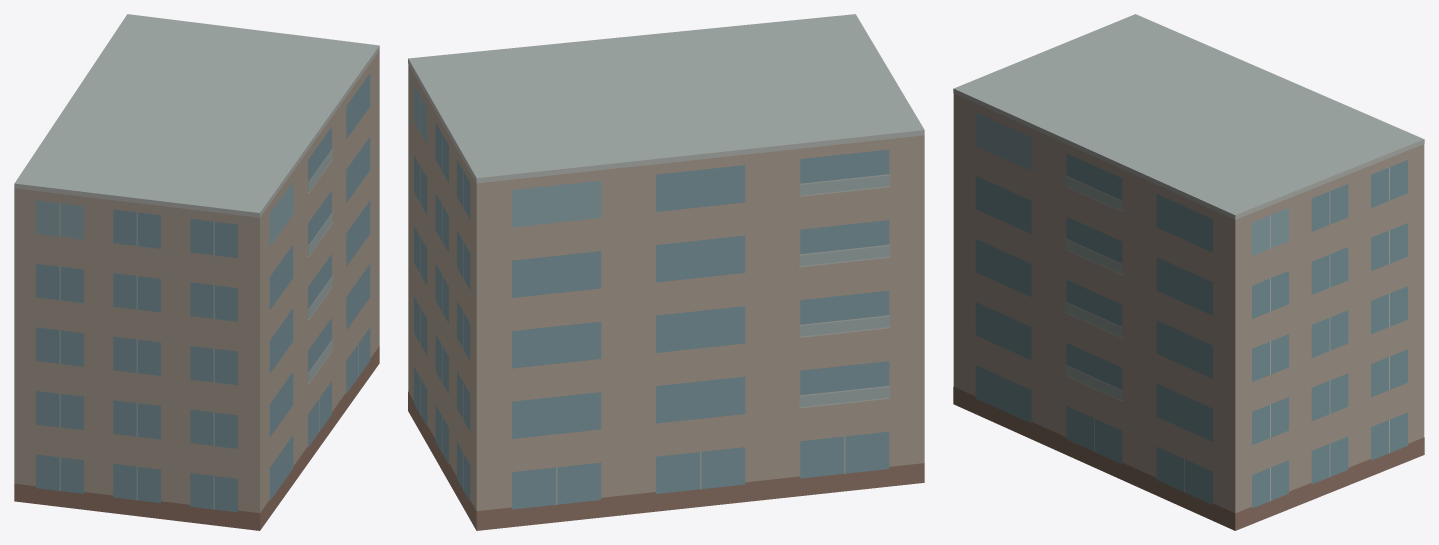
File: survey-upis-32840792.glb
3 renders of one model, left to right at view 1: azimuth 30°, elevation 25°; view 2: azimuth 150°, elevation 25°; view 3: azimuth 270°, elevation 25°, orthographic. The views are drawn at different scales.
Parts seen in each view (by area): view 1: survey-upis-32840792.tmp; view 2: survey-upis-32840792.tmp; view 3: survey-upis-32840792.tmp.
Boxes of the visible parts, x1,y1,x2,y2 form: survey-upis-32840792.tmp: [14, 14, 379, 530]; survey-upis-32840792.tmp: [408, 14, 924, 530]; survey-upis-32840792.tmp: [953, 14, 1424, 530].
Bounding box in the file's own units: 22.58 × 16.5 × 22.32.
